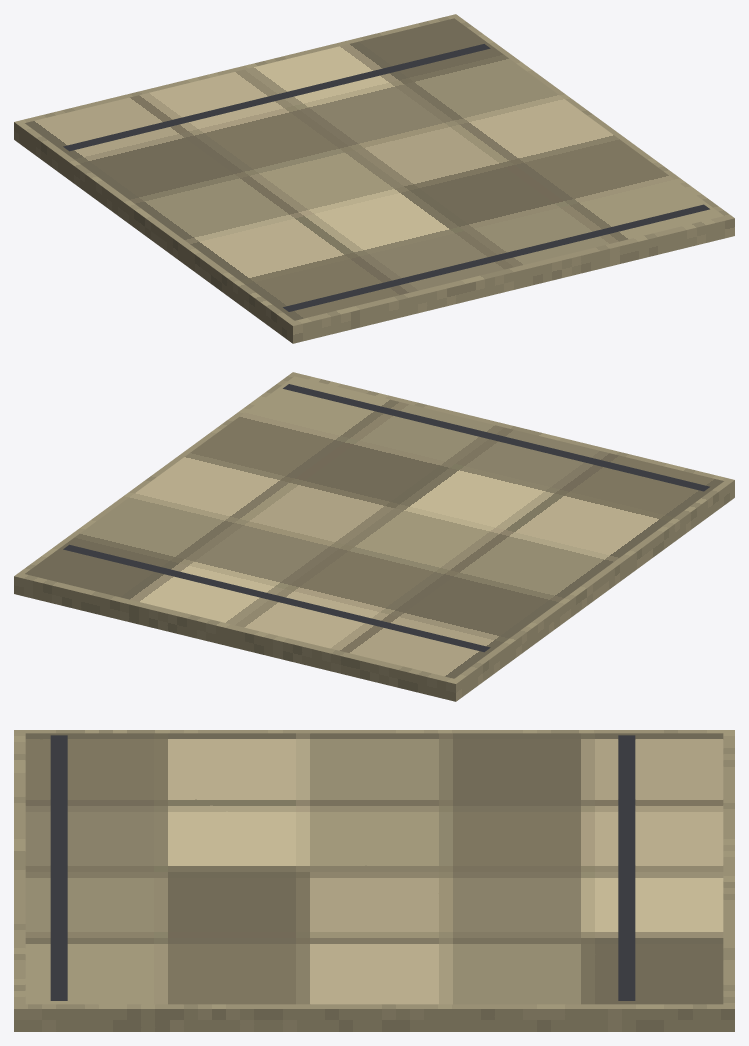
File: sheet_canvas_patchwork.glb
The picture shows the model from 3 angles, top to bottom: view 1: azimuth 30°, elevation 25°; view 2: azimuth 150°, elevation 25°; view 3: azimuth 270°, elevation 25°; orthographic projection. The views are drawn at different scales.
Visible parts, largest first — view 1: block_stitched patchwork, block_flat stock, block_edge crease (×2); view 2: block_stitched patchwork, block_flat stock, block_edge crease (×2); view 3: block_stitched patchwork, block_flat stock, block_edge crease (×2).
Boxes of the visible parts, box(x1,y1,x2,y2) form: block_stitched patchwork: box(25, 18, 723, 320); block_flat stock: box(14, 14, 734, 343); block_edge crease (×2): box(63, 44, 709, 311); block_stitched patchwork: box(25, 376, 723, 678); block_flat stock: box(14, 372, 734, 701); block_edge crease (×2): box(63, 384, 709, 652); block_stitched patchwork: box(25, 733, 723, 1004); block_flat stock: box(14, 730, 734, 1031); block_edge crease (×2): box(50, 735, 635, 1000).
Size of the model in its own units: 0.1047 by 0.00426 by 0.1145.
1 material, 1 textured.
